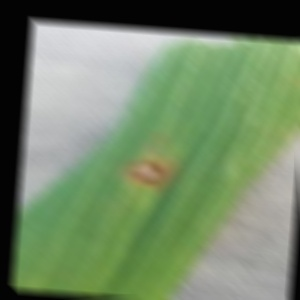Bacterial_Leaf_Blight: (119, 153, 174, 190)
